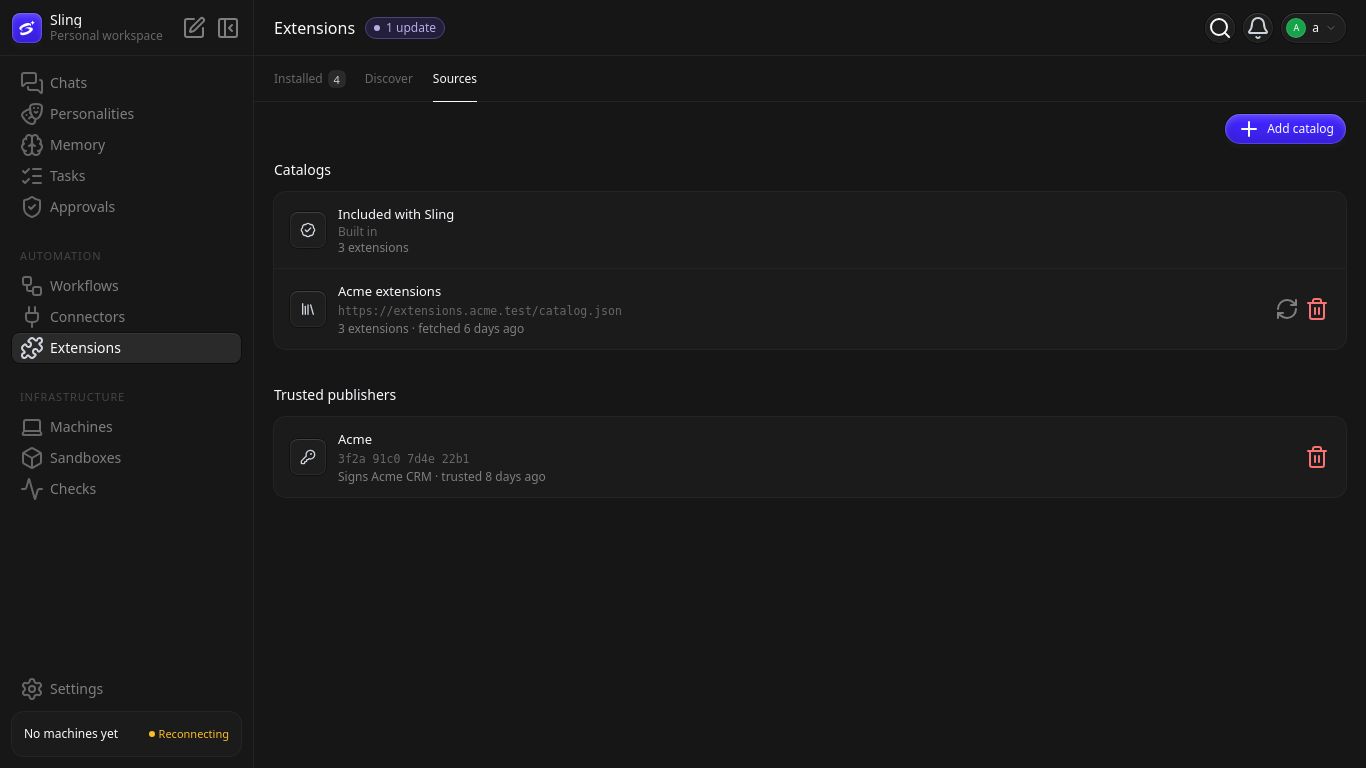
Test: sources › adds a catalog after showing what it lists
Expected: the list named "Catalogs" is shown, [274,192,1346,349]
Click the button "Add catalog" at coordinates (1286, 129), box [1225,114,1346,144]
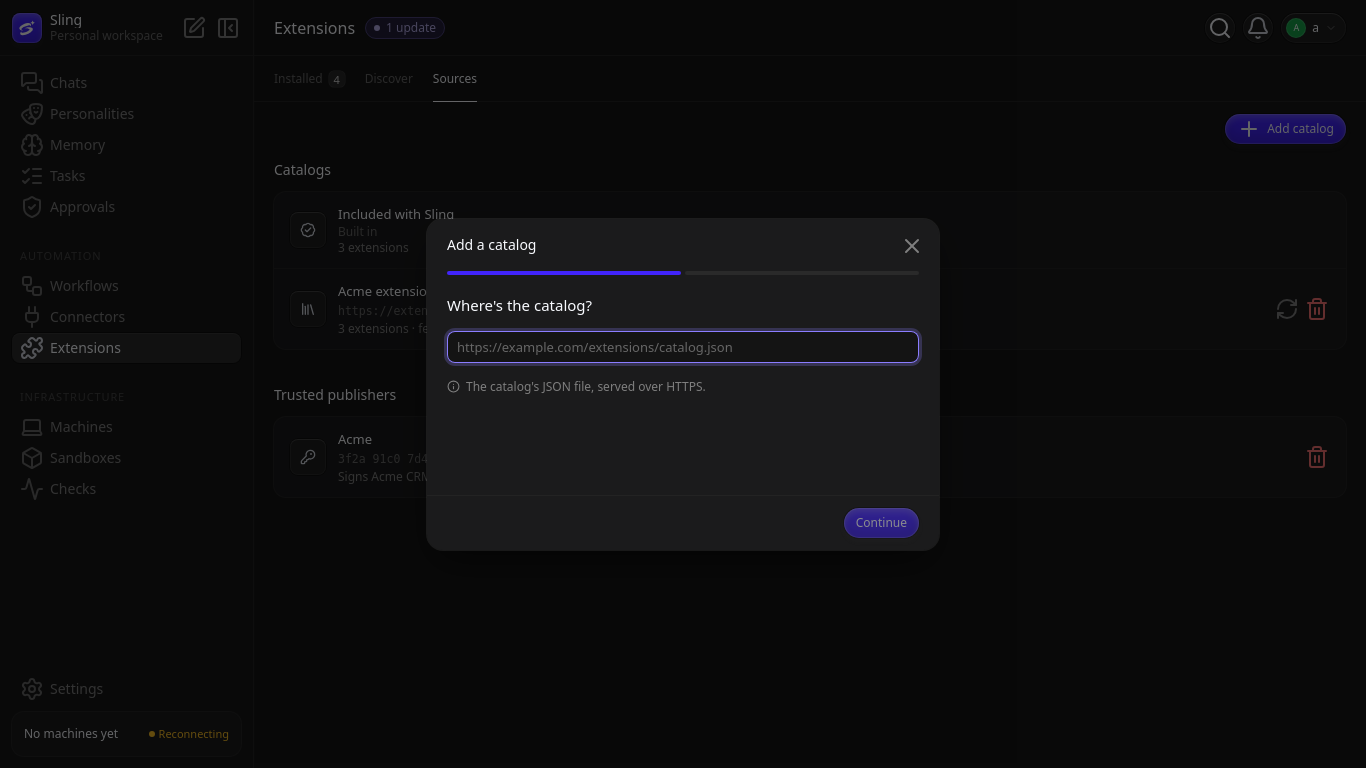
Result: the heading "Where's the catalog?" is shown at [447,294,592,314]
Result: the button "Continue" is disabled at [844,508,919,538]
# A problem shows under the field, and nothing is added.
Type "https://acme.test/catalog.json" into the field named "Catalog URL" at coordinates (683, 346), box [447,330,919,362]
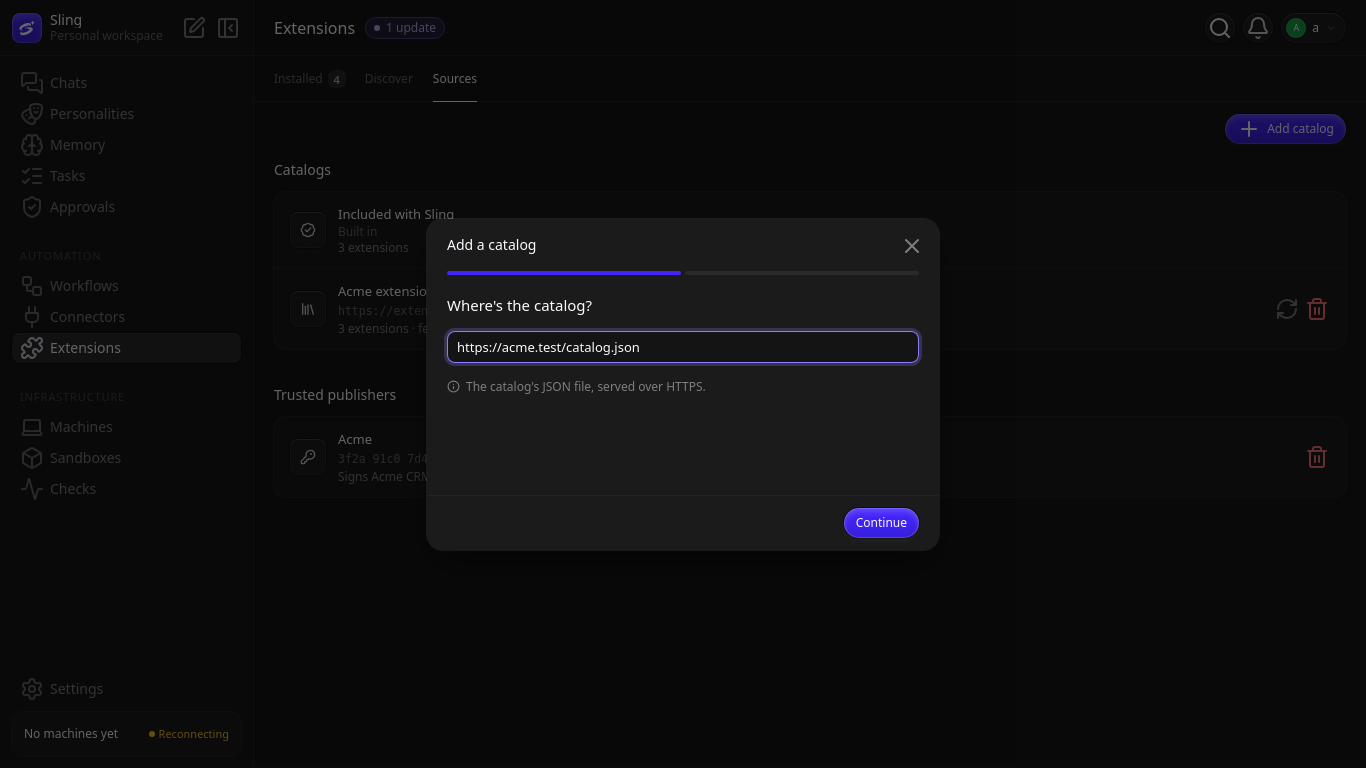
Click the button "Continue" at coordinates (881, 522), box [844,508,919,538]
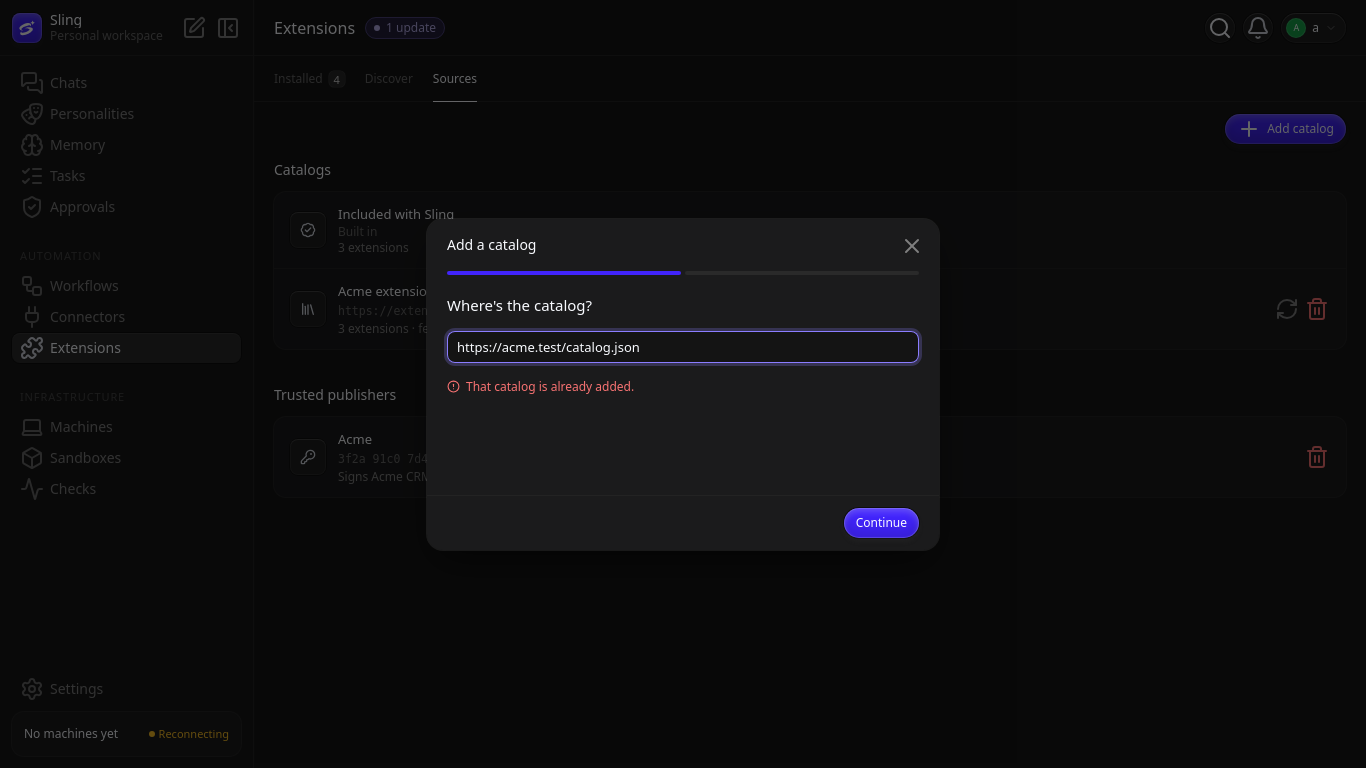
Result: the message reads "That catalog is already added." at [466,378,634,394]
Replace the text in the field named "Catalog URL" with "https://weather.test/catalog.json" at coordinates (683, 346), box [447,330,919,362]
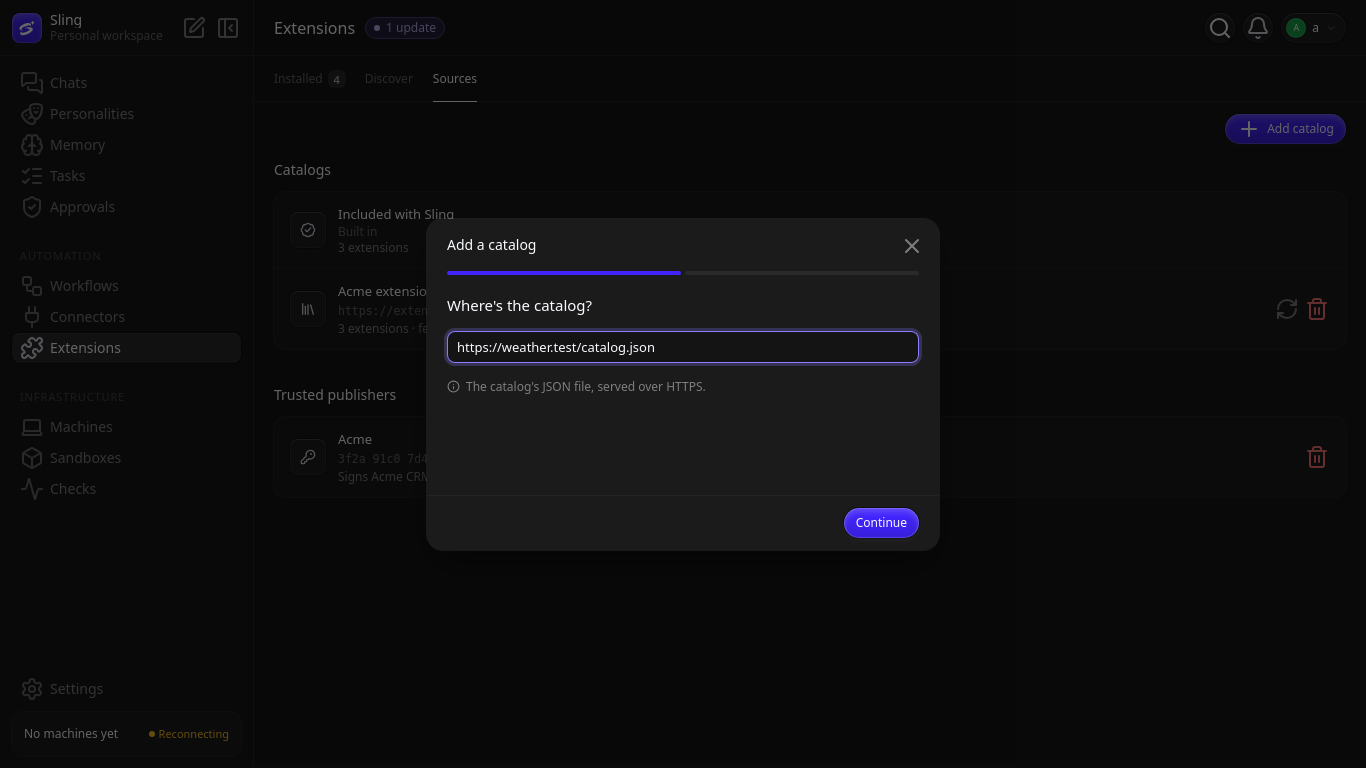
Click the button "Continue" at coordinates (881, 522), box [844,508,919,538]
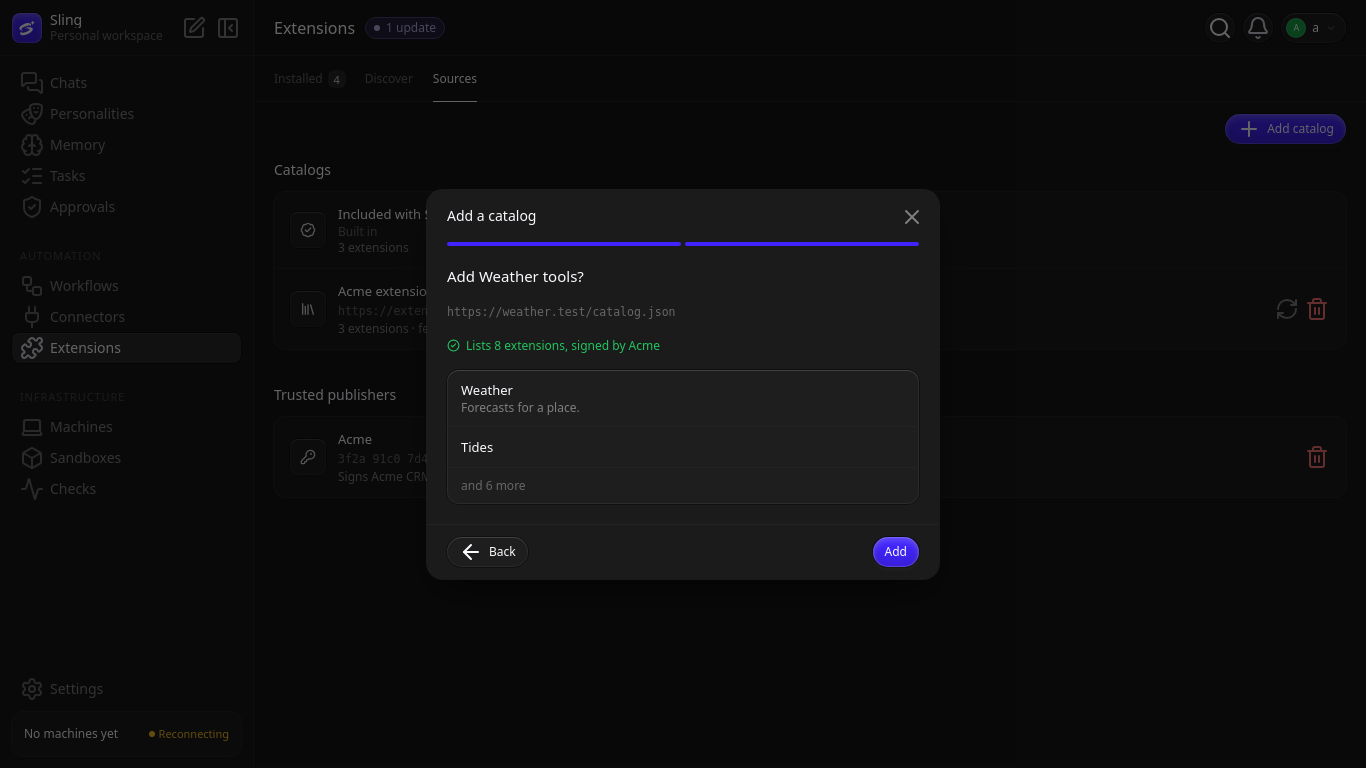
Result: the heading "Add Weather tools?" is shown at [447,266,584,286]
Result: the text "Lists 8 extensions, signed by Acme" is shown at [466,338,660,354]
Result: the list items read "WeatherForecasts for a place.", "Tides", "and 6 more", in this order at [447,370,919,426]; [447,426,919,468]; [461,476,526,494]
Click the button "Add" at coordinates (896, 552), box [873,536,919,566]
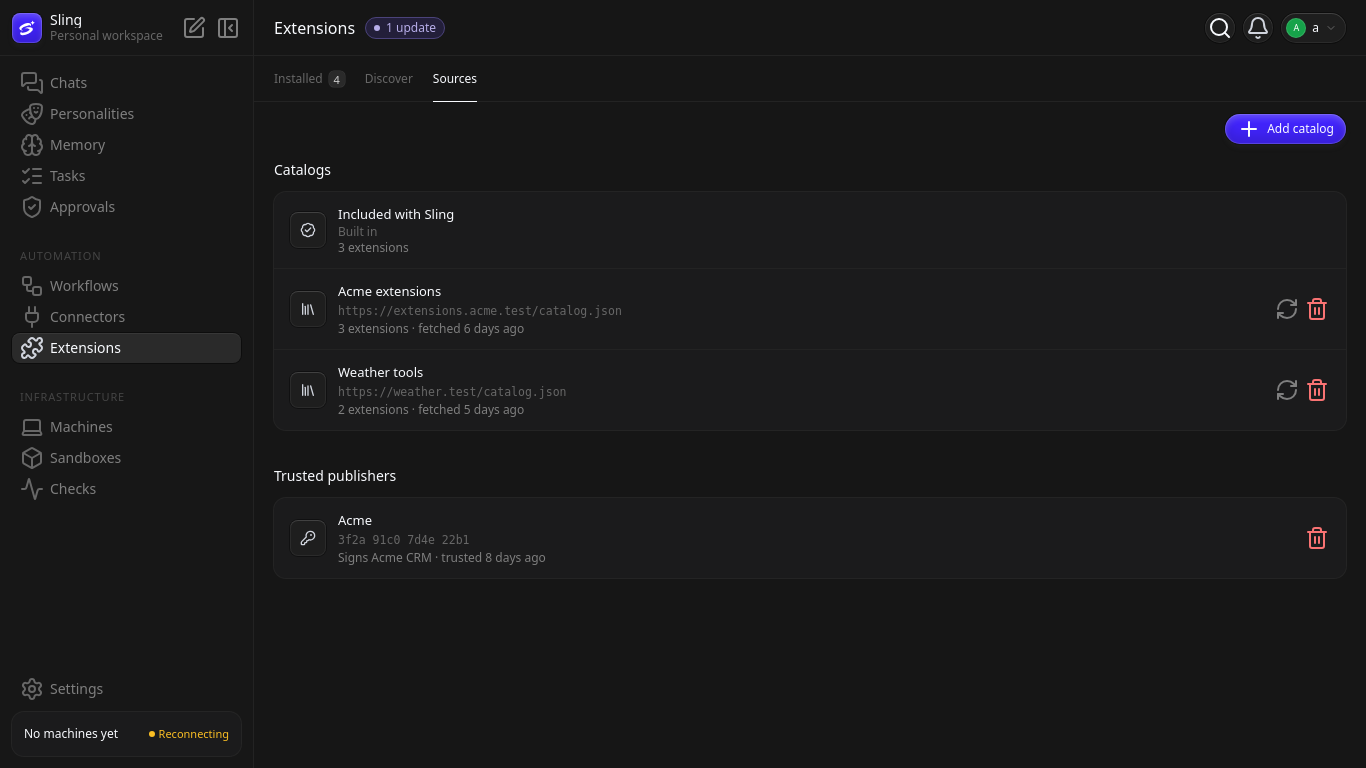
Result: the dialog is gone
Result: the text "Weather tools" is shown at [338,363,423,381]
